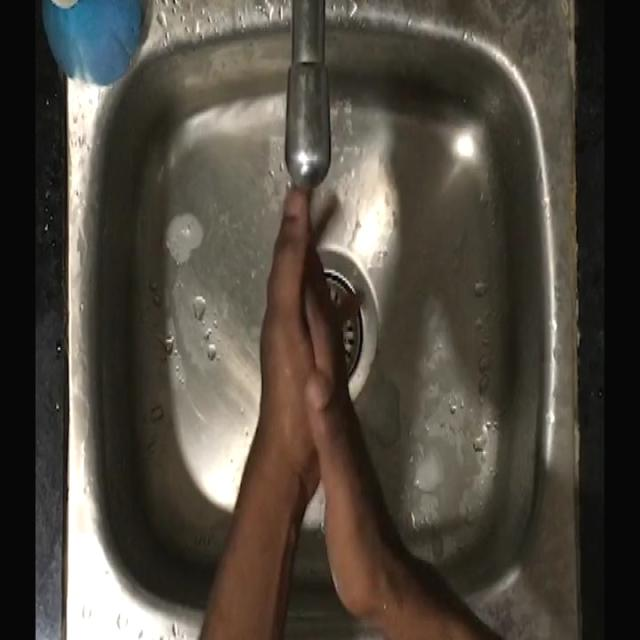step_1: (248, 121, 379, 472)
